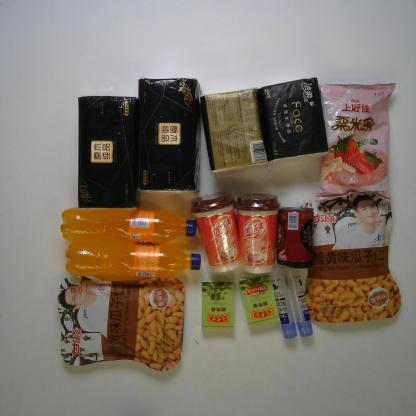Candy: (237, 270, 282, 330), (199, 279, 235, 332)
Canned Food: (276, 204, 316, 270)
Dried Fruit: (295, 194, 402, 325), (52, 272, 185, 374)
Drink: (62, 240, 203, 280), (60, 205, 199, 245)
Instant Drink: (189, 191, 242, 276), (234, 192, 281, 275)
Puffed Food: (312, 77, 400, 202)
Stationery: (266, 269, 298, 340), (284, 266, 314, 338)
Tissue: (136, 74, 203, 196), (75, 94, 142, 212), (256, 76, 330, 165), (199, 86, 269, 175)
